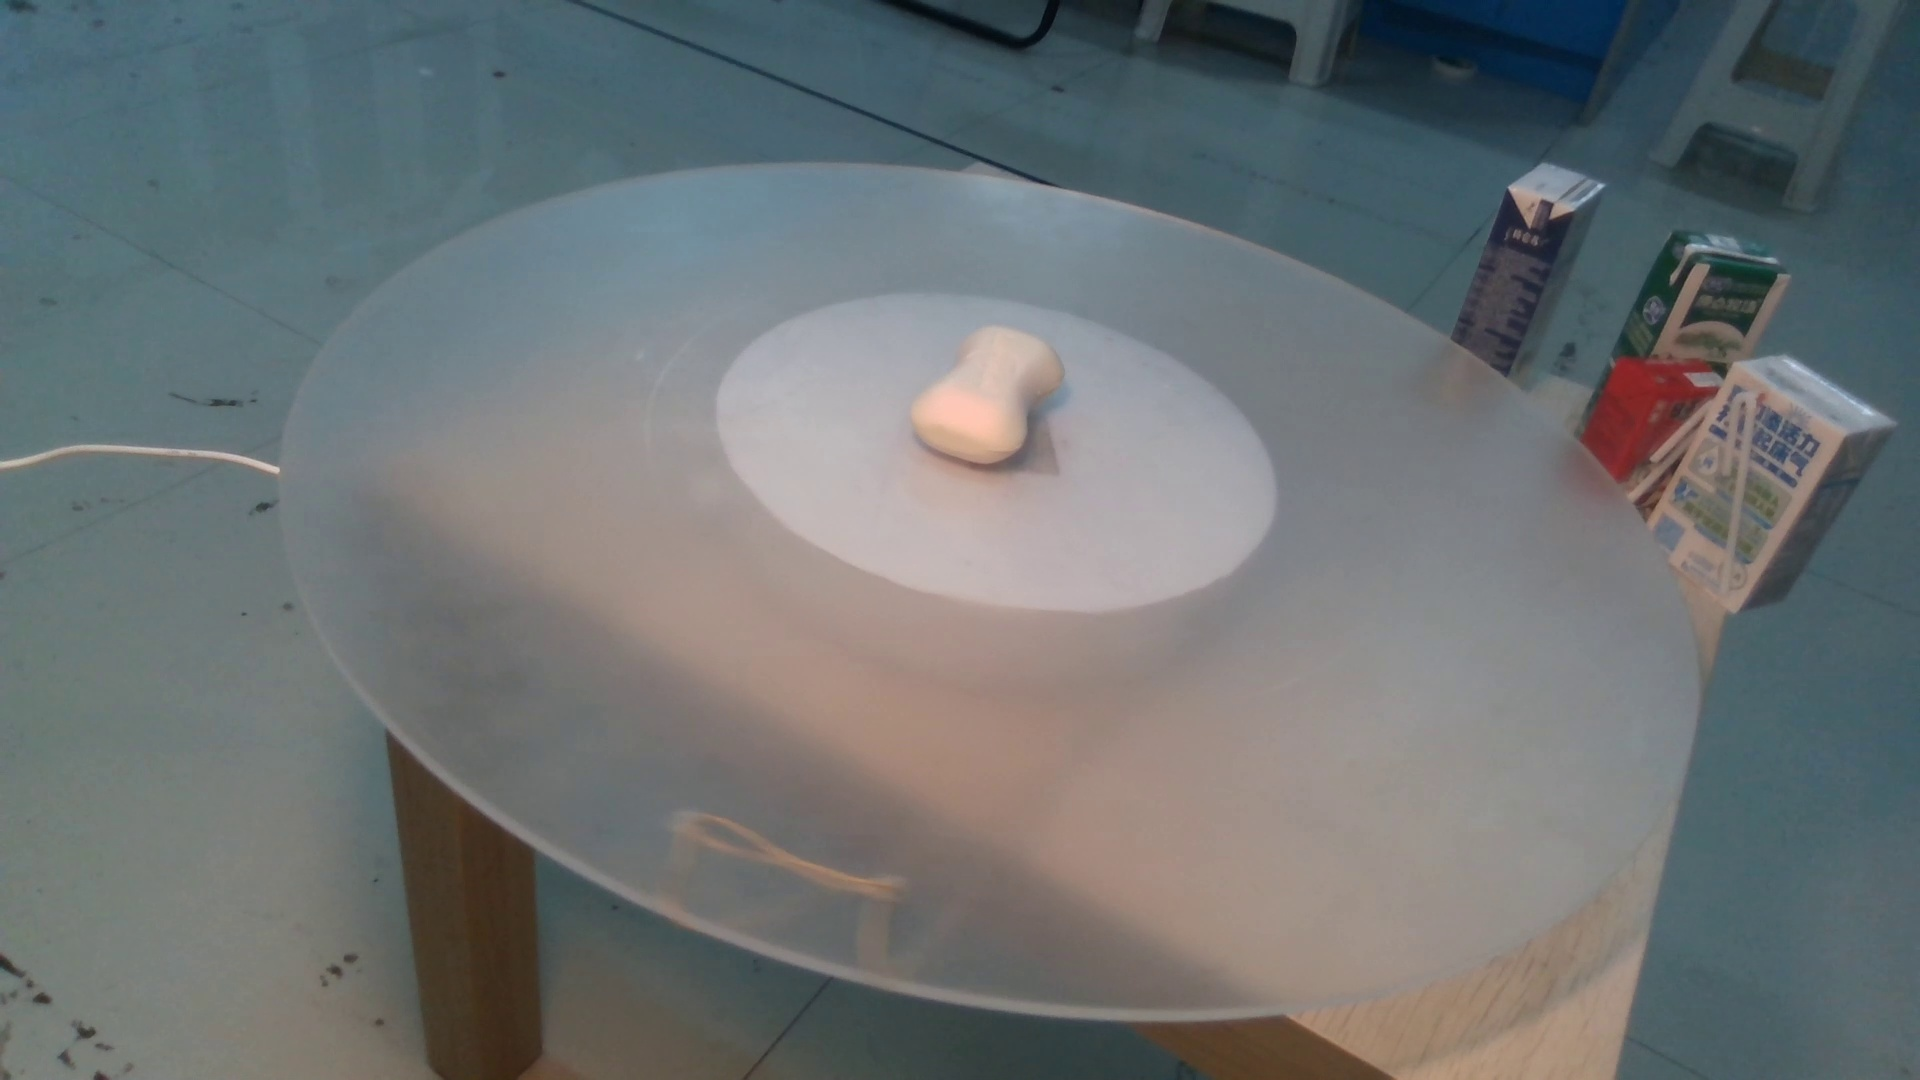CA003_1: (899, 314, 1093, 463)
